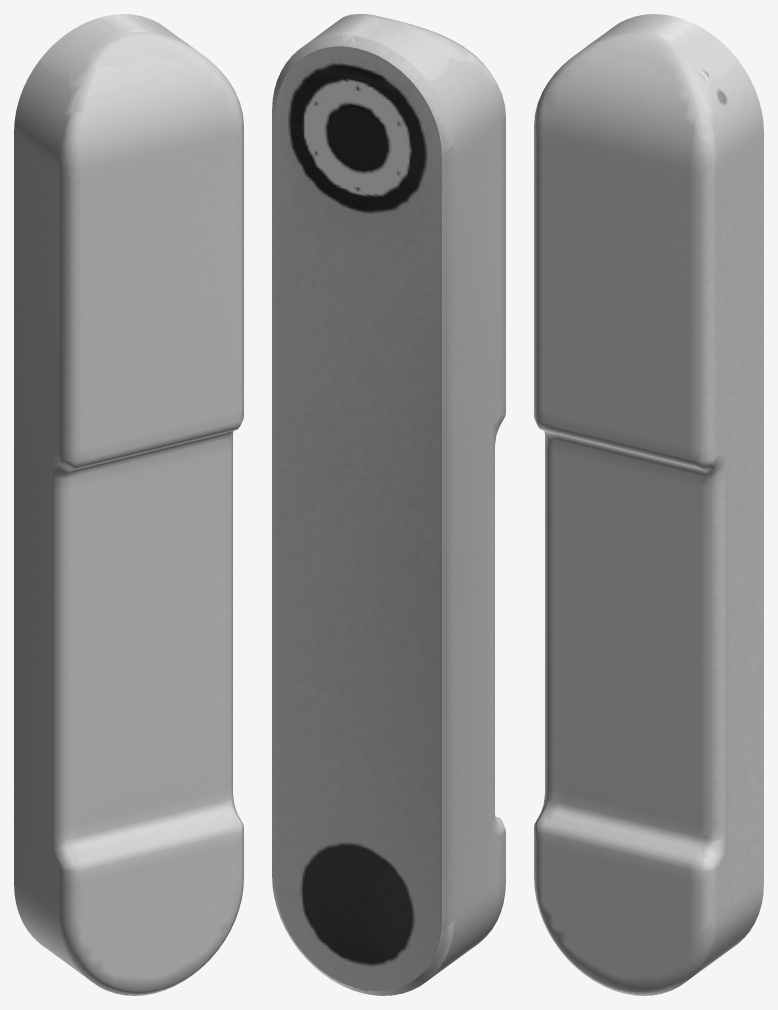
Rendered from lower_arm.dae.
The picture shows the model from 3 angles, left to right: view 1: azimuth 30°, elevation 25°; view 2: azimuth 150°, elevation 25°; view 3: azimuth 330°, elevation 25°; orthographic projection.
Parts seen in each view (by area): view 1: simple_mesh_arm_02; view 2: simple_mesh_arm_02; view 3: simple_mesh_arm_02.
Part boxes in pixels (x1=…): simple_mesh_arm_02: x1=14, y1=14, x2=243, y2=995; simple_mesh_arm_02: x1=272, y1=14, x2=505, y2=995; simple_mesh_arm_02: x1=534, y1=14, x2=763, y2=995.
Bounding box in the file's own units: 95 × 55 × 477.
Materials: 1 (1 with a texture image).
